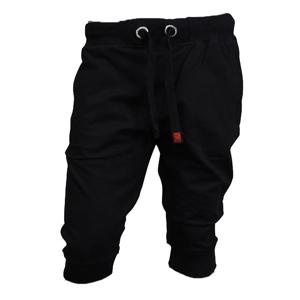C_W_pants: (51, 8, 248, 288)
